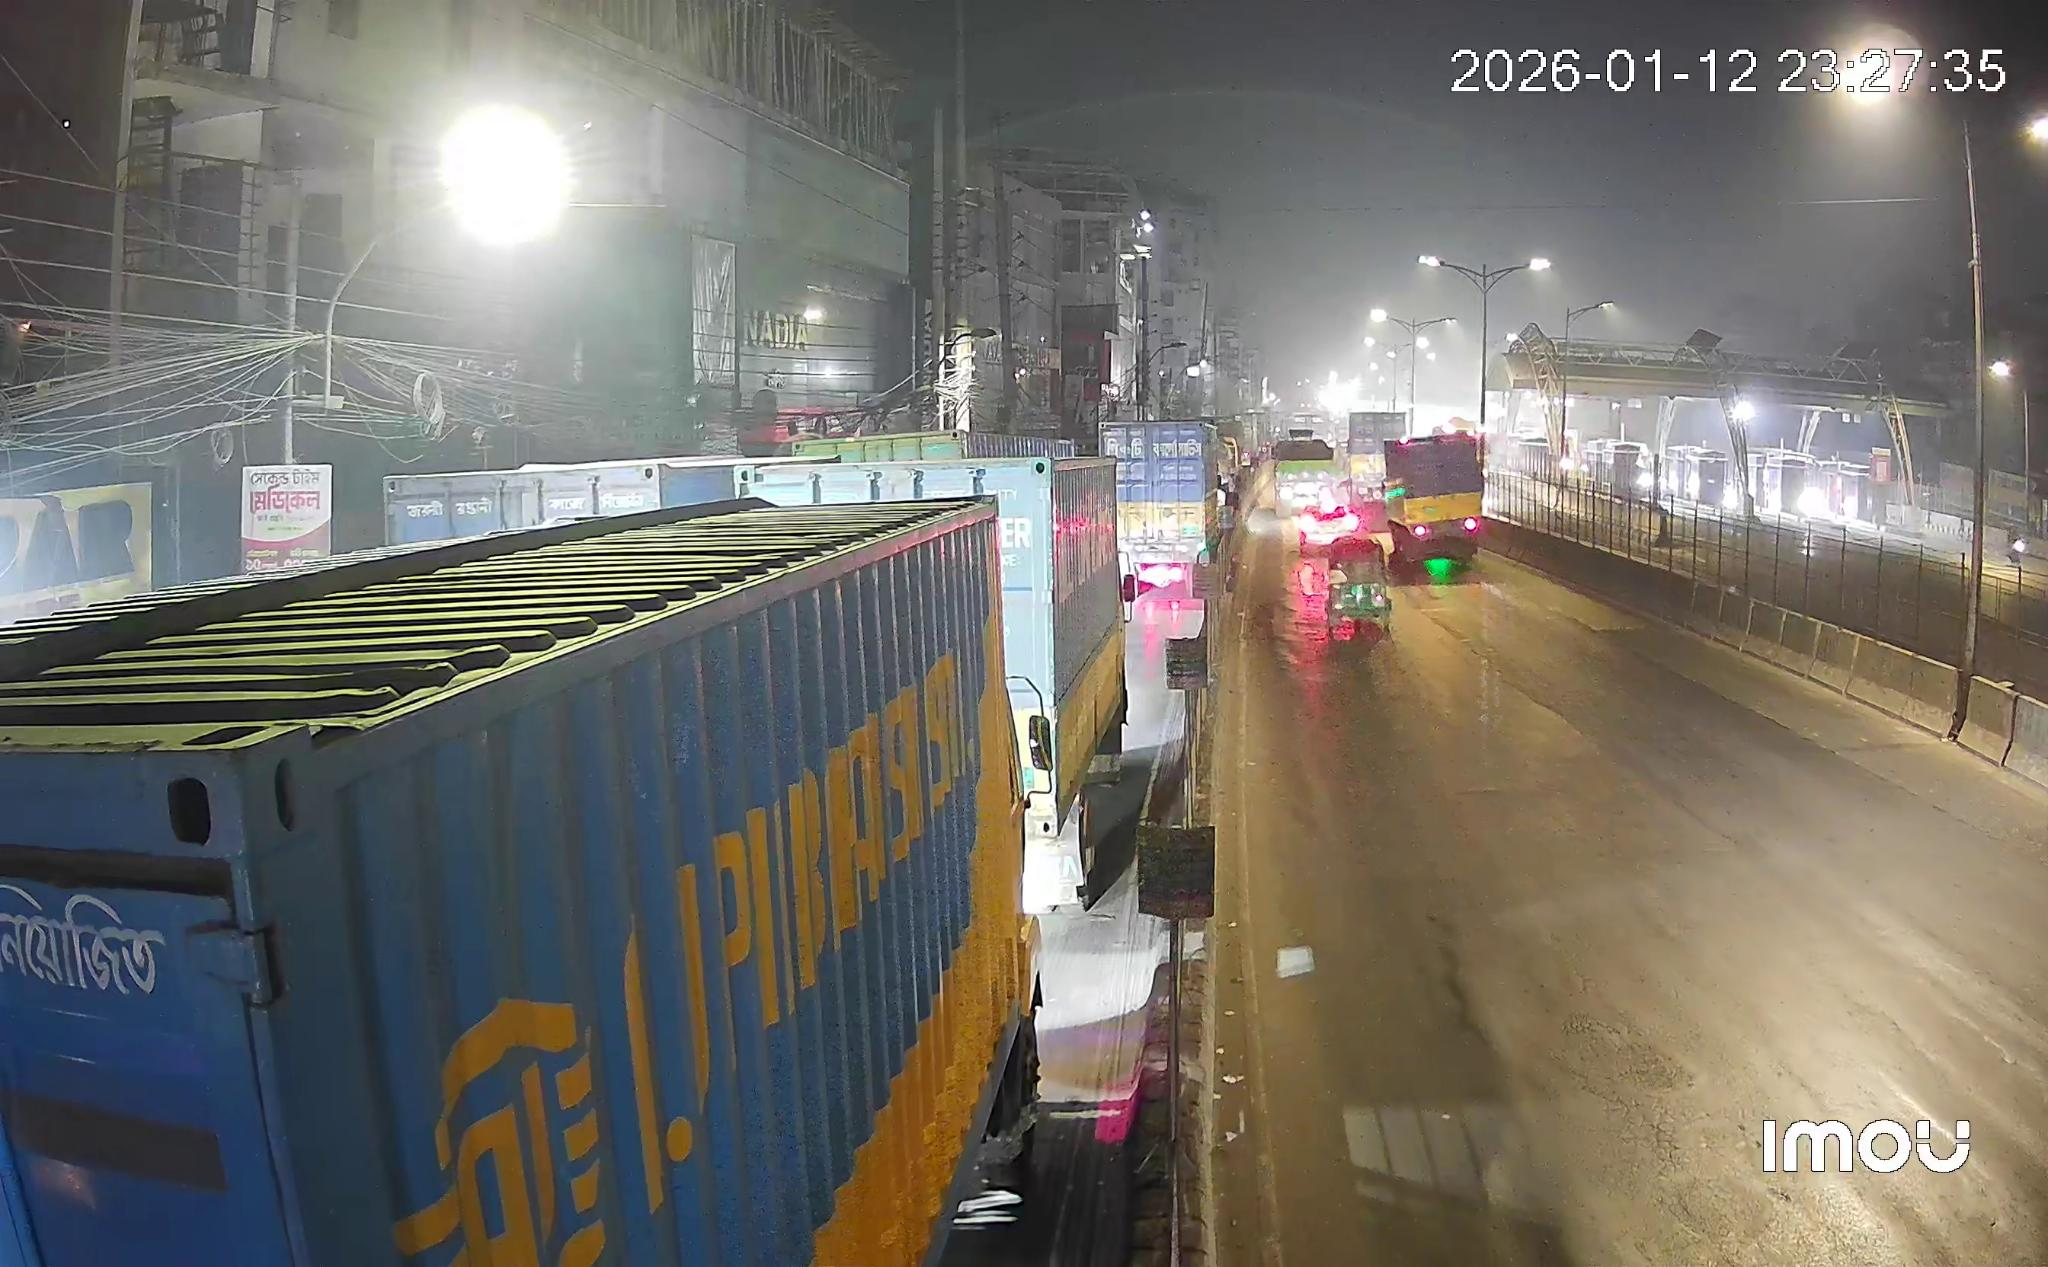CNG-Tempo: (1327, 537, 1391, 635)
Truck: (0, 499, 1046, 1267), (0, 499, 1040, 1267), (753, 456, 1137, 913), (1100, 420, 1224, 597), (1382, 430, 1485, 566)
